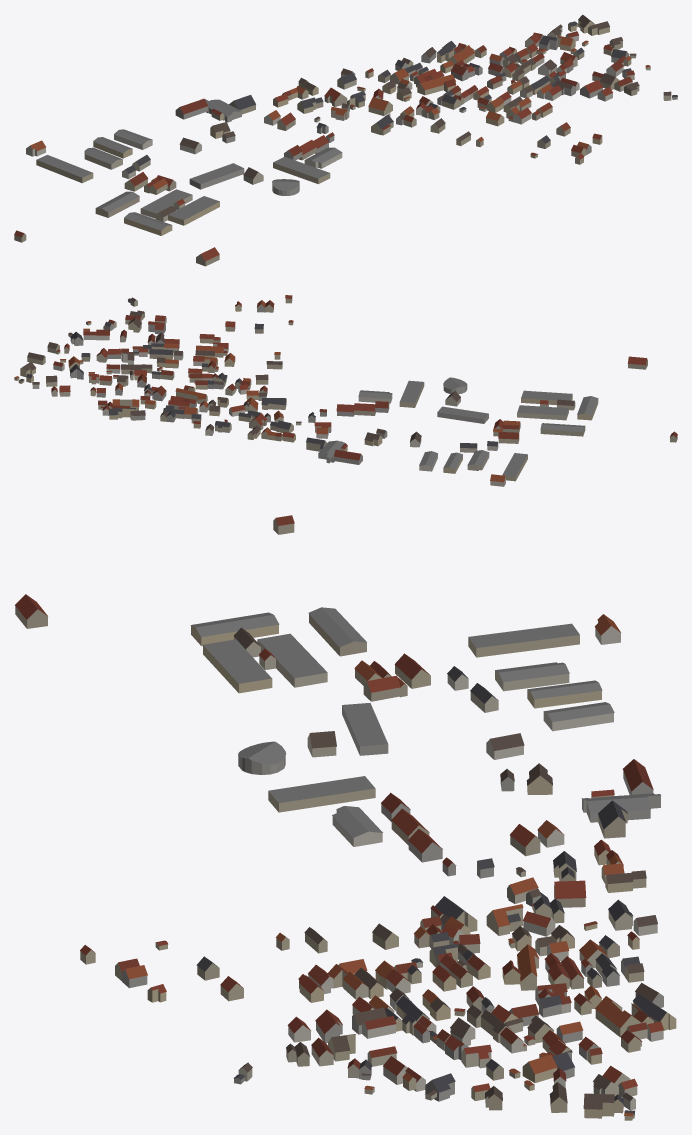
3 renders of one model, top to bottom at view 1: azimuth 30°, elevation 25°; view 2: azimuth 150°, elevation 25°; view 3: azimuth 270°, elevation 25°, orthographic. The views are drawn at different scales.
Parts seen in each view (by area): view 1: buildings; view 2: buildings; view 3: buildings.
Boxes of the visible parts, x1=… form: buildings: x1=14, y1=14, x2=677, y2=266; buildings: x1=14, y1=295, x2=677, y2=486; buildings: x1=15, y1=515, x2=676, y2=1120.
Bounding box in the file's own units: 770 × 44.95 × 380.
